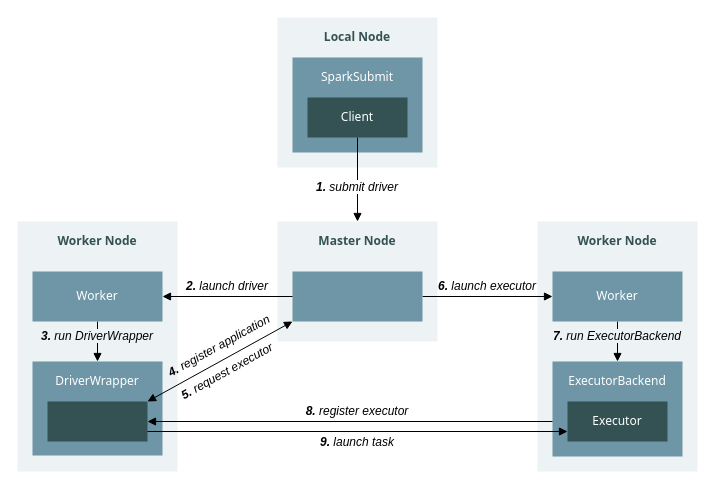
Image size: 714x488. Some labels were removed from this diagram. Each missing label, with the centre of its shape:
"Driver" goes at (97,421).
"Master" goes at (357,296).
